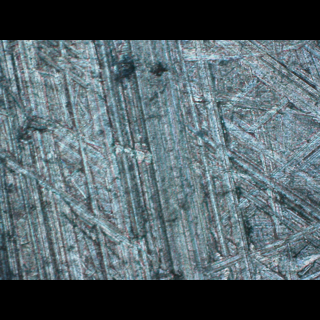d: (178, 45, 320, 280), (0, 106, 157, 245)
